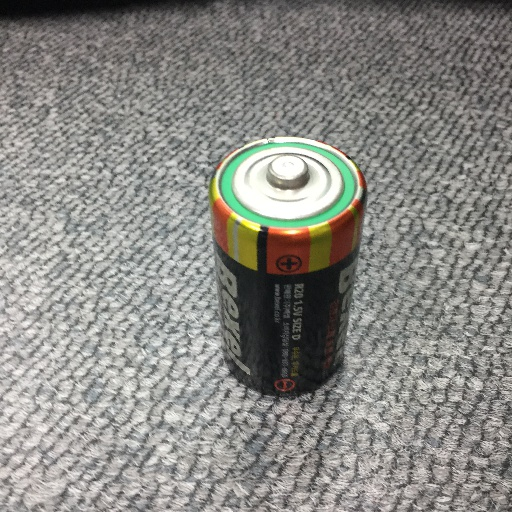Battery_0: (197, 126, 372, 406)
